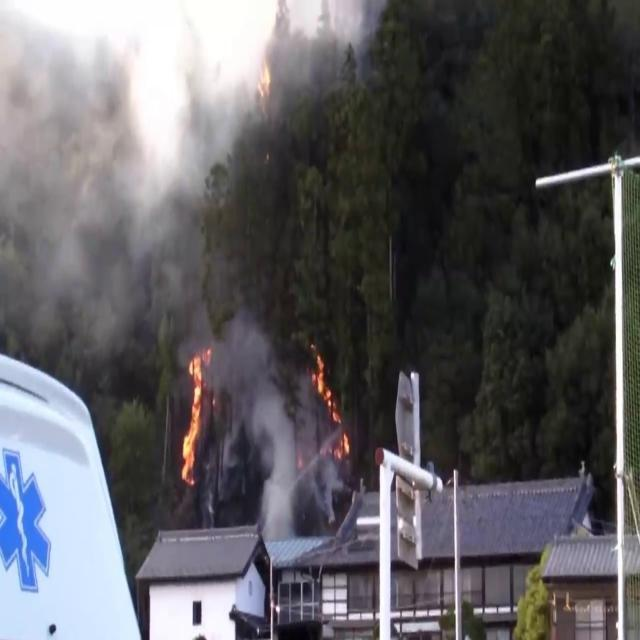Fire: (308, 344, 350, 466), (178, 340, 212, 488)
Smoke: (0, 0, 244, 365), (213, 291, 309, 540)
